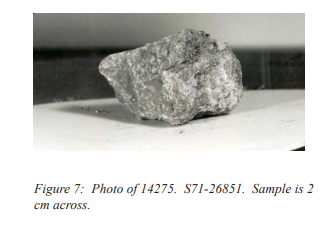Breccia: (90, 13, 273, 130)
